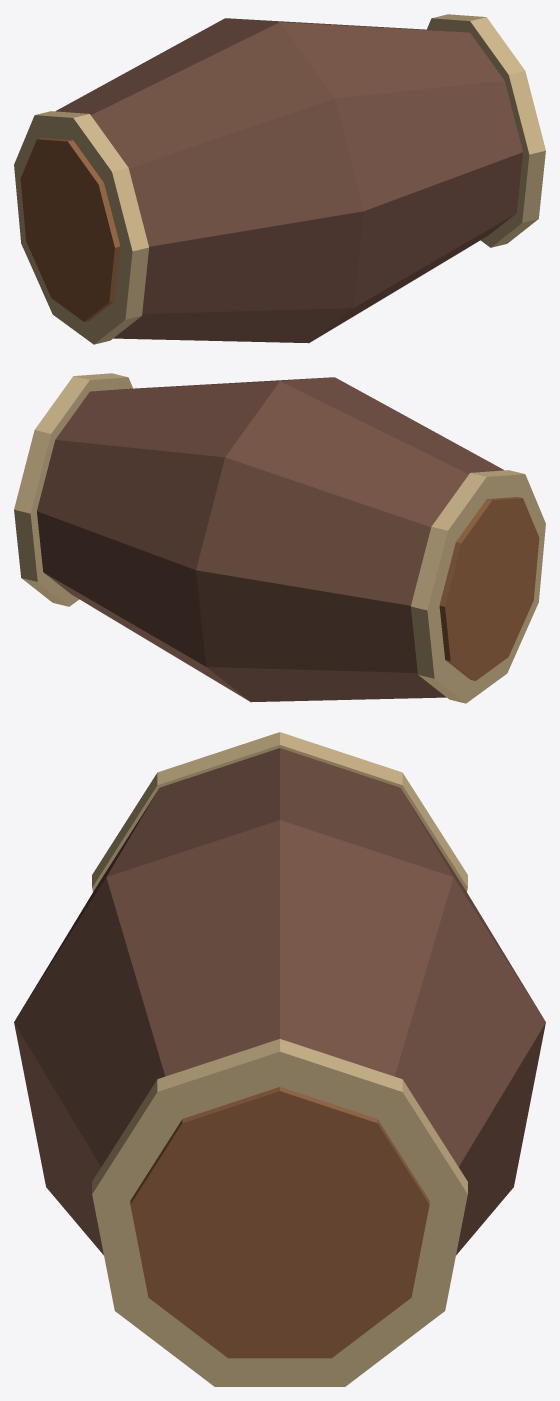
File: 083_maddalam_drum.glb
3 renders of one model, top to bottom at view 1: azimuth 30°, elevation 25°; view 2: azimuth 150°, elevation 25°; view 3: azimuth 270°, elevation 25°, orthographic. The views are drawn at different scales.
Parts seen in each view (by area): view 1: Maddalam drum; view 2: Maddalam drum; view 3: Maddalam drum.
Part boxes in pixels (box(x1,y1,x2,y2)): Maddalam drum: box(14, 14, 545, 344); Maddalam drum: box(14, 373, 545, 703); Maddalam drum: box(14, 732, 545, 1386).
Bounding box in the file's own units: 0.92 × 0.6207 × 0.6303.
